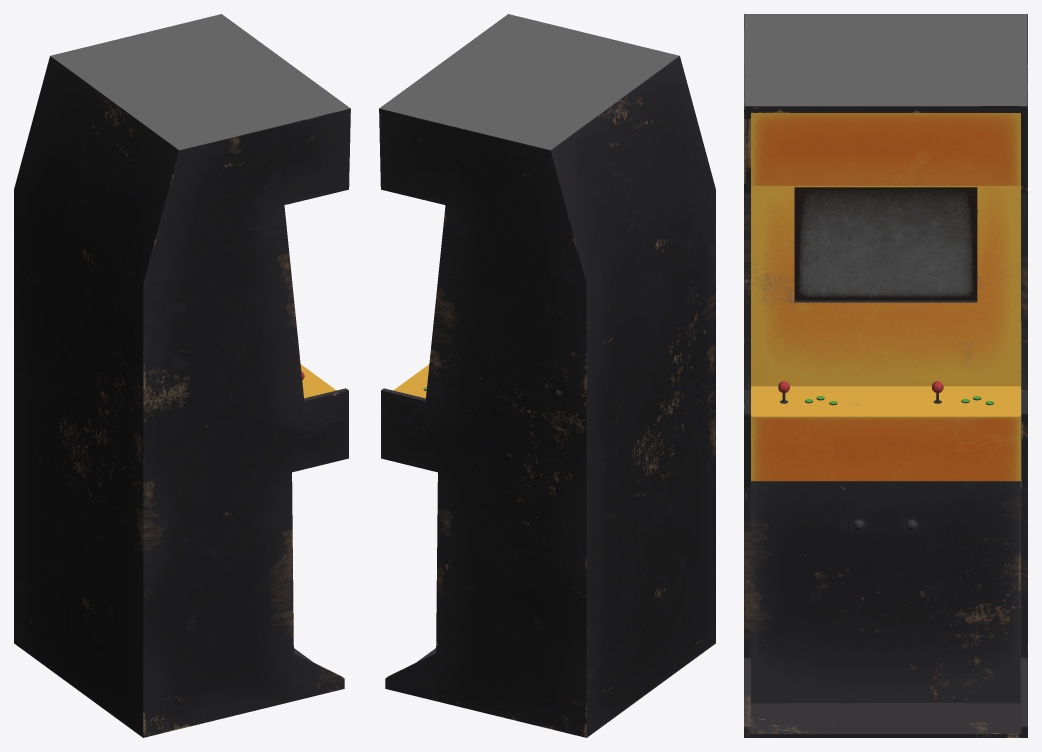
File: retro.dae
3 renders of one model, left to right at view 1: azimuth 30°, elevation 25°; view 2: azimuth 150°, elevation 25°; view 3: azimuth 270°, elevation 25°, orthographic. The views are drawn at different scales.
Parts seen in each view (by area): view 1: Icosphere; view 2: Icosphere; view 3: Icosphere.
Boxes of the visible parts, bbox=[...] form: Icosphere: bbox=[14, 14, 350, 737]; Icosphere: bbox=[379, 14, 715, 737]; Icosphere: bbox=[744, 14, 1027, 737].
Size of the model in its own units: 0.6497 by 0.7 by 1.73.
